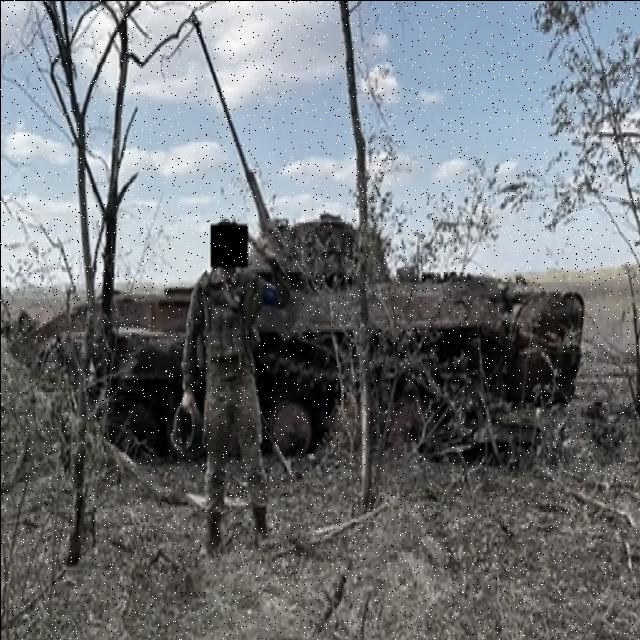APC-IFV: (15, 13, 584, 469)
